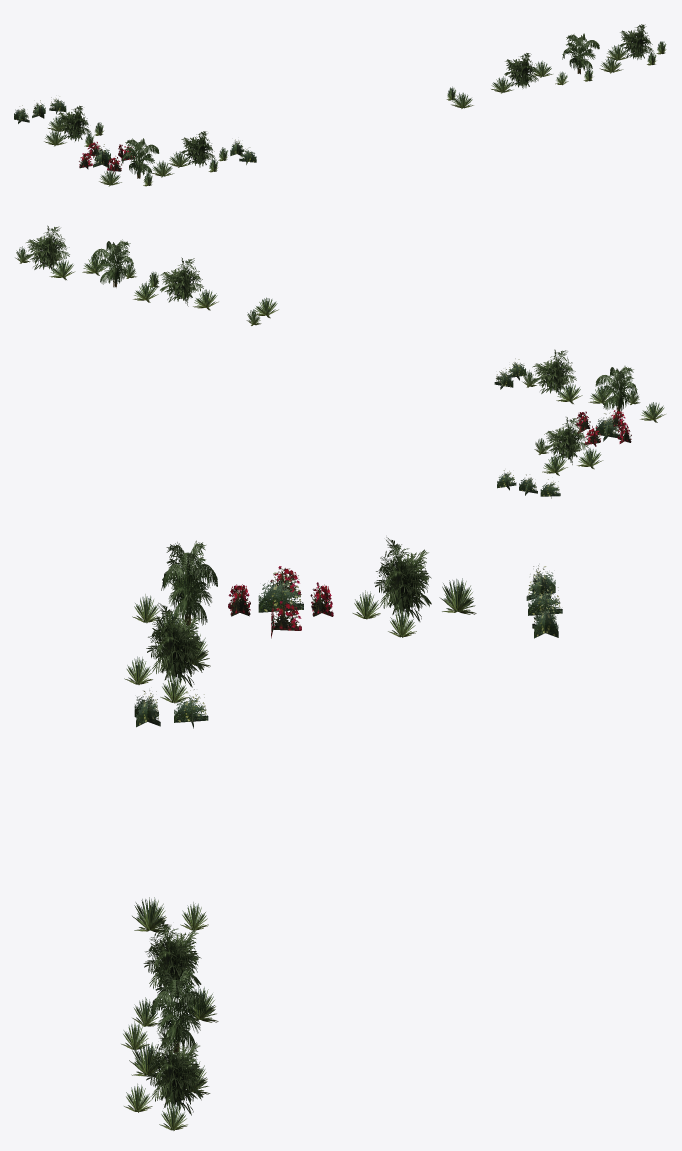
File: plantbeds1_lan05.obj
3 views of the same model, one above another, from view 1: azimuth 30°, elevation 25°; view 2: azimuth 150°, elevation 25°; view 3: azimuth 270°, elevation 25° (orthographic). The views are drawn at different scales.
Visible parts, largest first — view 1: plantbeds1_LAn05; view 2: plantbeds1_LAn05; view 3: plantbeds1_LAn05.
Part boxes in pixels (x1,y1,x2,y2): plantbeds1_LAn05: (14,24,666,186); plantbeds1_LAn05: (15,225,665,498); plantbeds1_LAn05: (121,537,562,1130).
Bounding box in the file's own units: 65.24 × 4.58 × 22.21.
